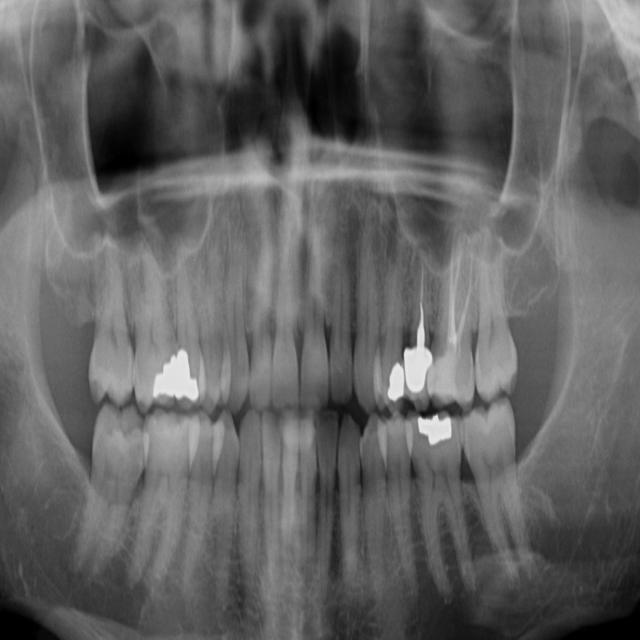infected-teeth: (432, 239, 477, 409), (400, 246, 440, 406)
